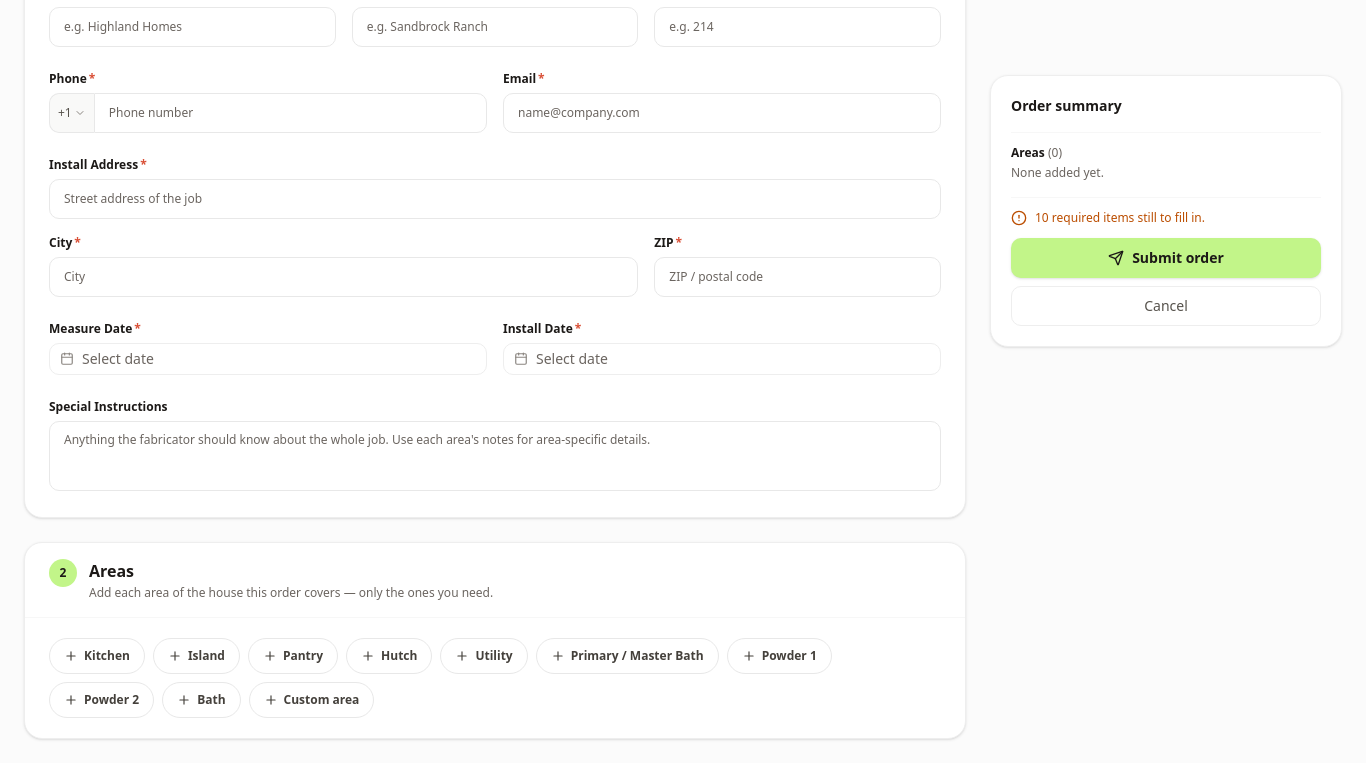
Scenario: AddCreatedOrderPage › removes an area and offers its chip again
(page scrolled)
Click the button with aria-label "Add Pantry" at (293,656), box [248,638,338,674]
(page scrolled)
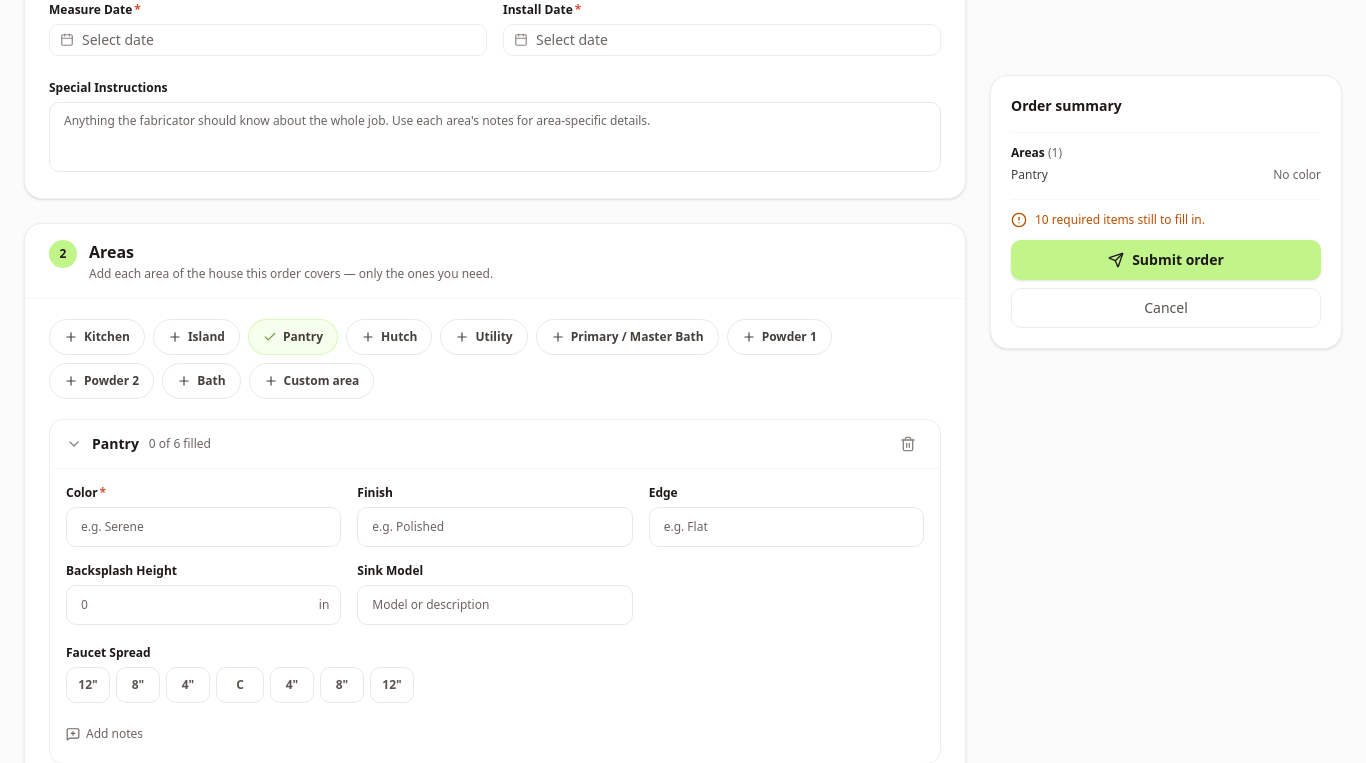
Click the button named "Remove Pantry" at (908,444), box [892,428,924,460]
(page scrolled)
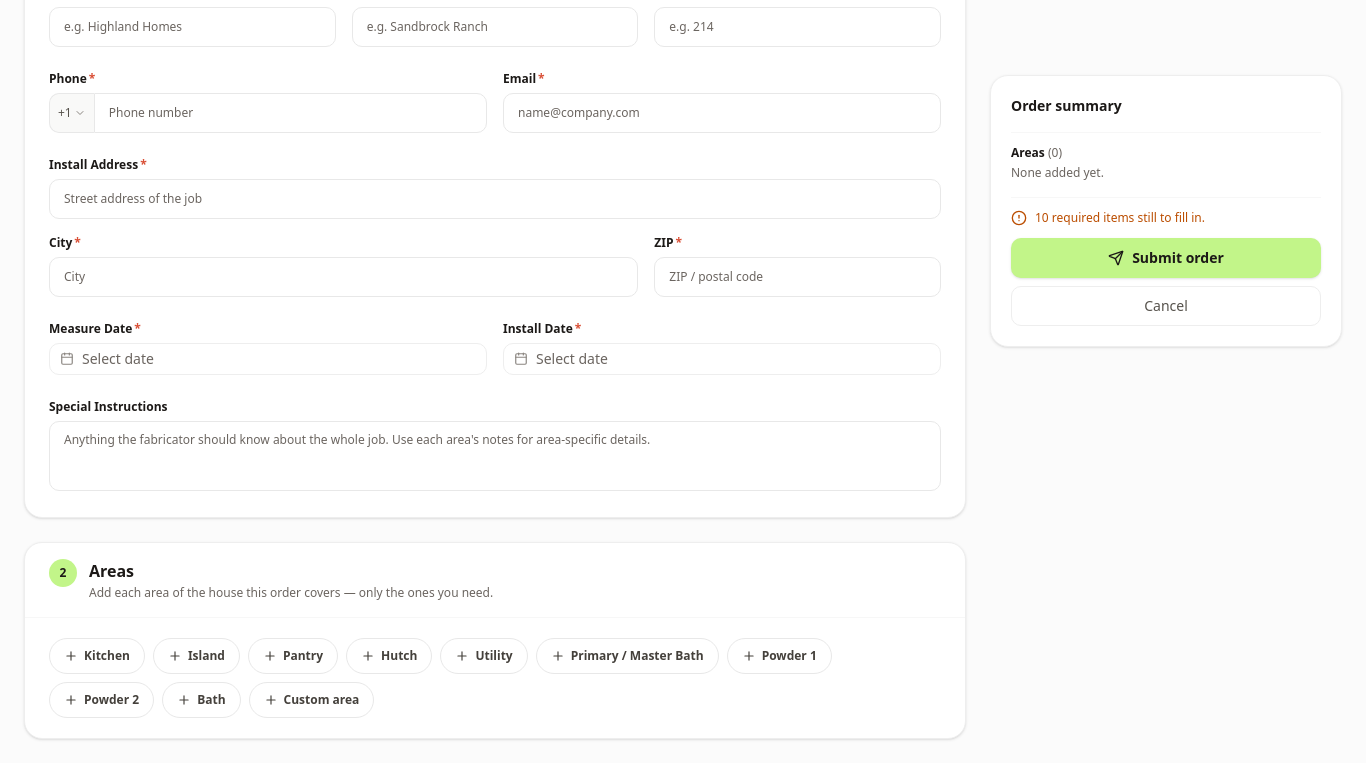
Expected: the button with aria-label "Add Pantry" is enabled, [248,638,338,674]
